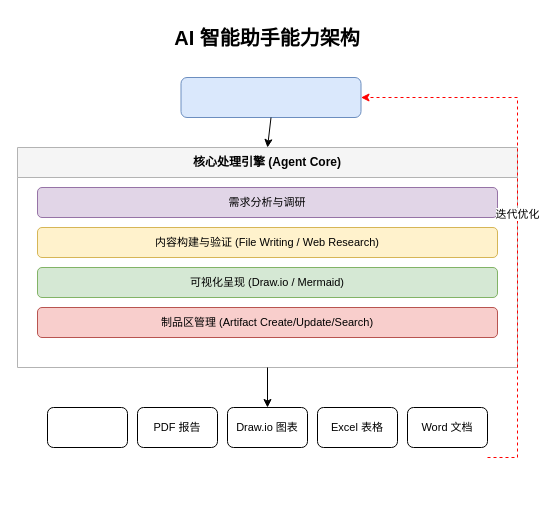
This 557x524 diagram has some shape labels left out. The shapes that lost their labels are listed below. From the top down, each one's centre as x and y in pixels, then its label:
At pixel 270 97: "用户需求输入".
At pixel 87 427: "HTML 页面".
